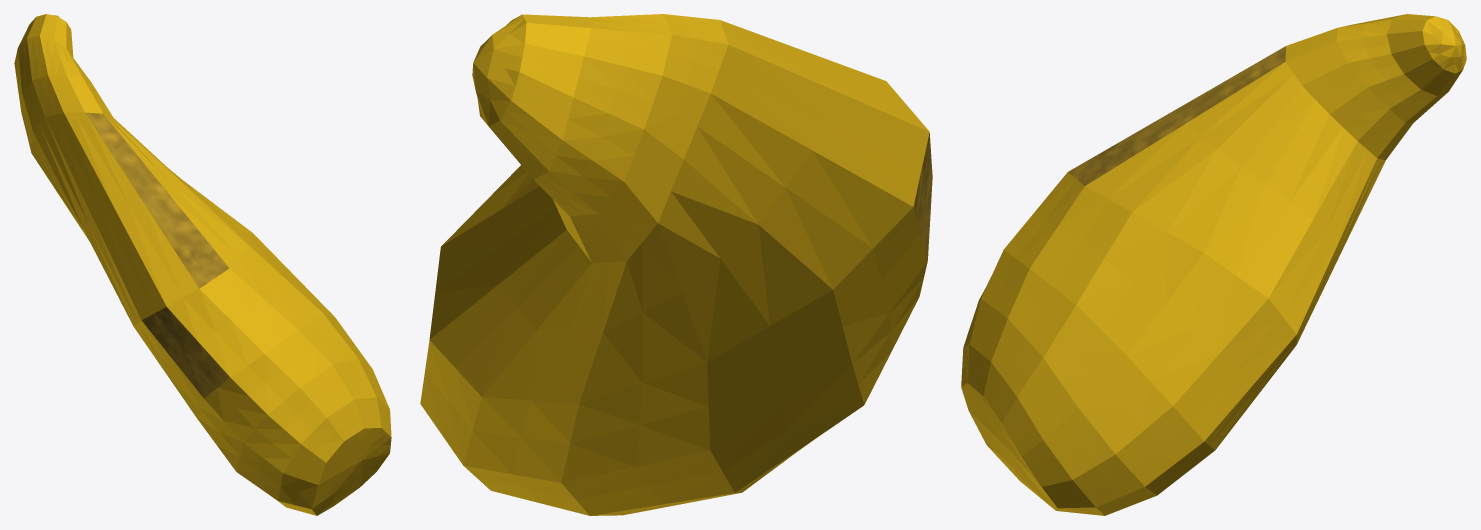
The model's file is gallbladder.obj.
The picture shows the model from 3 angles, left to right: view 1: azimuth 30°, elevation 25°; view 2: azimuth 150°, elevation 25°; view 3: azimuth 270°, elevation 25°; orthographic projection. The views are drawn at different scales.
Visible parts, largest first — view 1: gallbladder_gallbladder.009; view 2: gallbladder_gallbladder.009; view 3: gallbladder_gallbladder.009.
Part boxes in pixels (<box>): gallbladder_gallbladder.009: <box>14,14,391,515</box>; gallbladder_gallbladder.009: <box>420,14,932,515</box>; gallbladder_gallbladder.009: <box>961,14,1466,515</box>.
Bounding box in the file's own units: 2.4 × 3.91 × 4.17.
